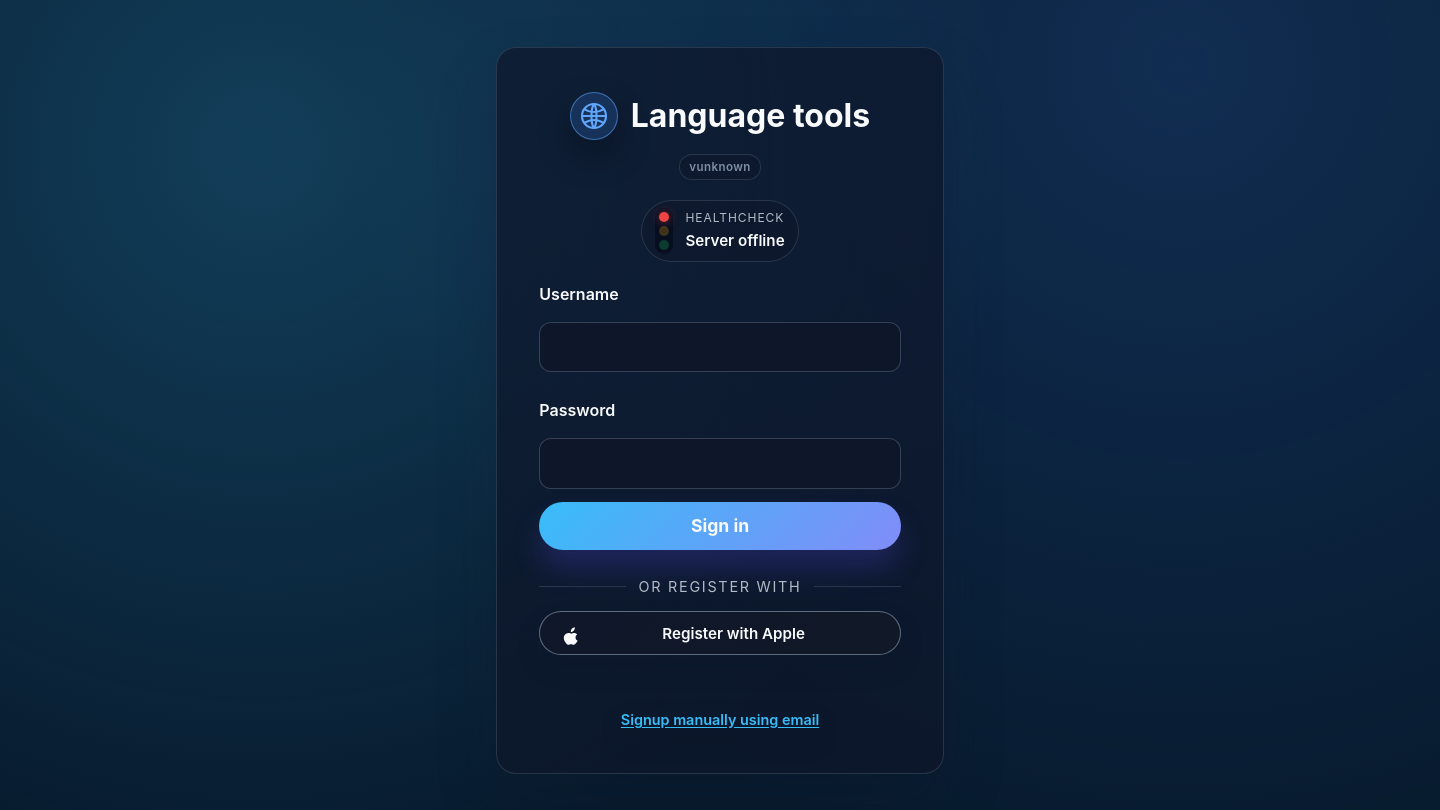
Test: authentication flows › shows an error when credentials are rejected
In the field labelled "Username": (720, 347) [539, 322, 901, 372], type "alice"
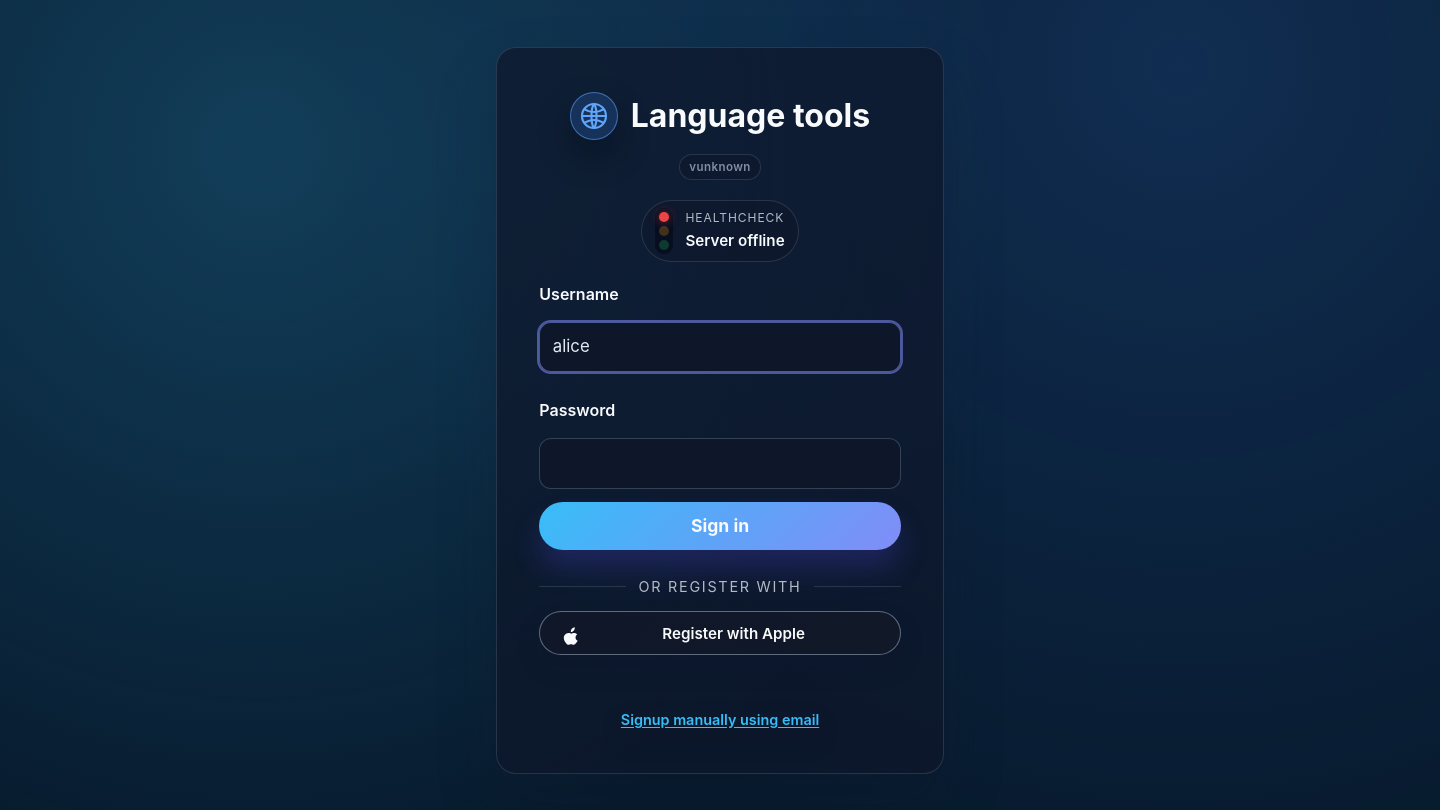
In the password field labelled "Password": (720, 464) [539, 438, 901, 489], type "wrong"
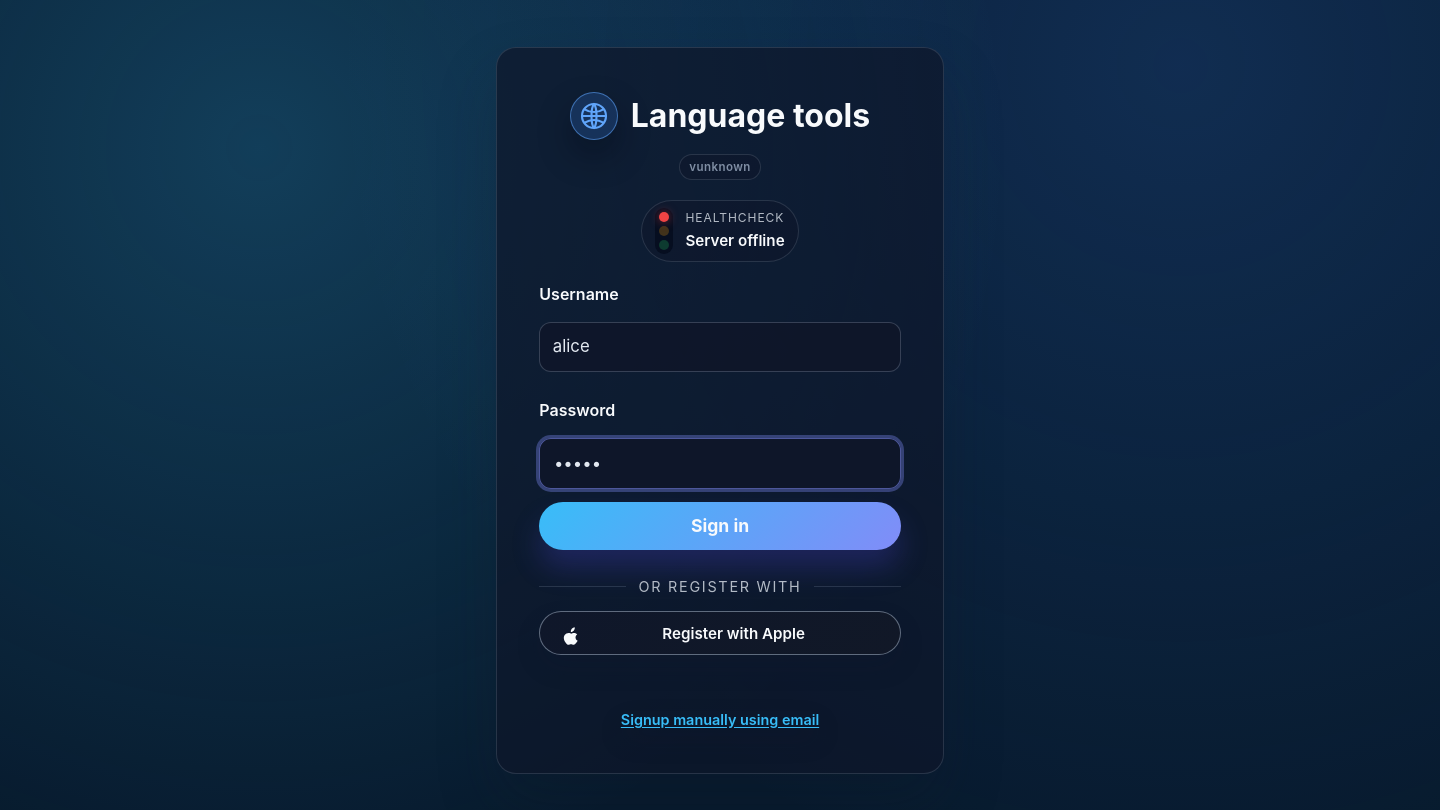
Click the button "Sign in": (720, 526) [539, 502, 901, 550]
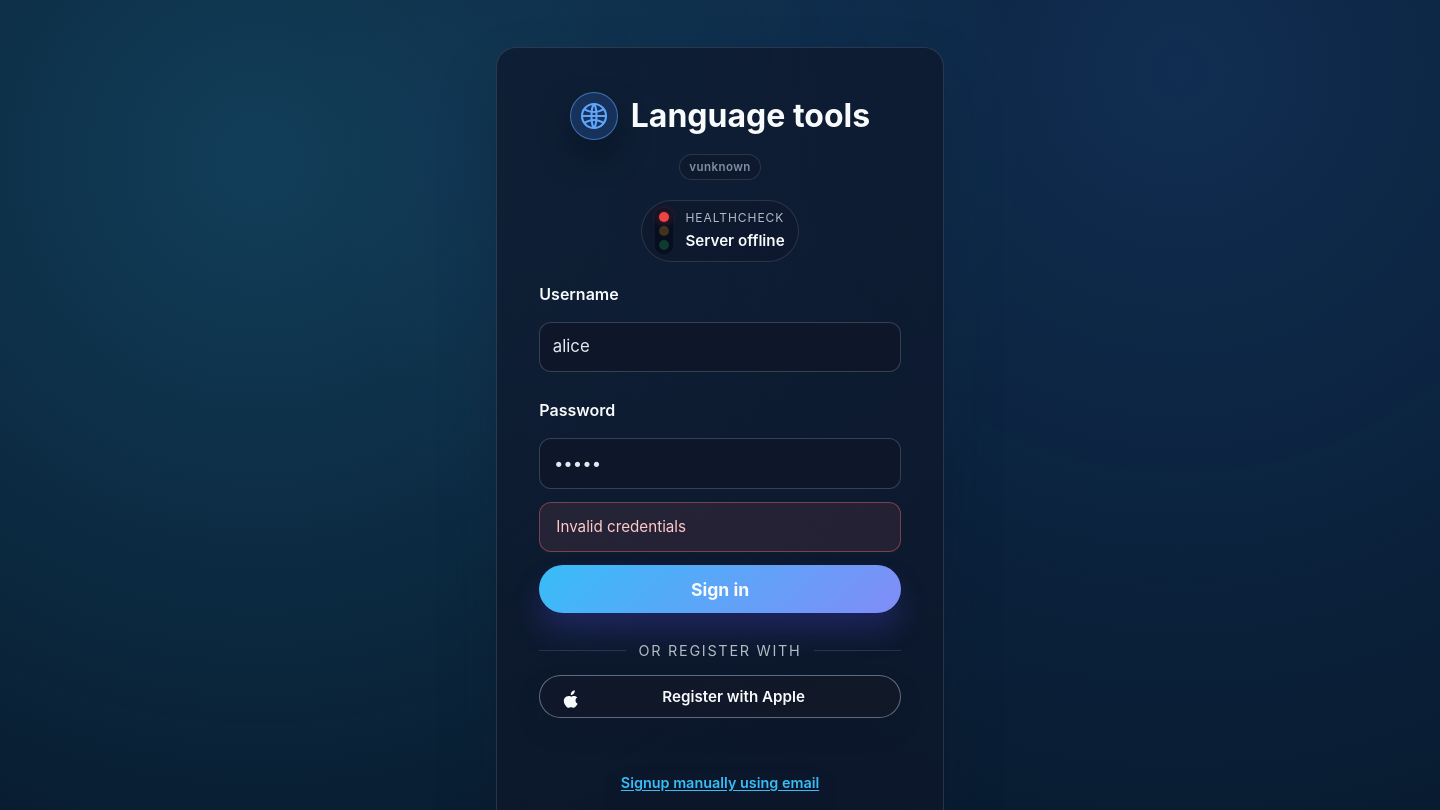
Check: the message "Invalid credentials" is shown, box [539, 502, 901, 552]
